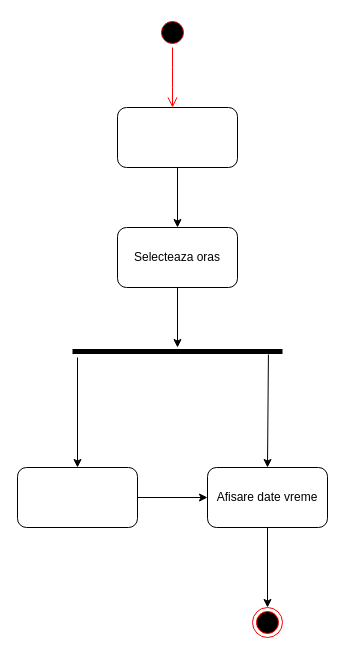
This 345x655 diagram has some shape labels left out. Here are the shapes that lost their labels. From the top down, the box of each, then its label:
(116, 106, 238, 168): Selecteaza tara
(16, 466, 138, 528): Afisare buton refresh
